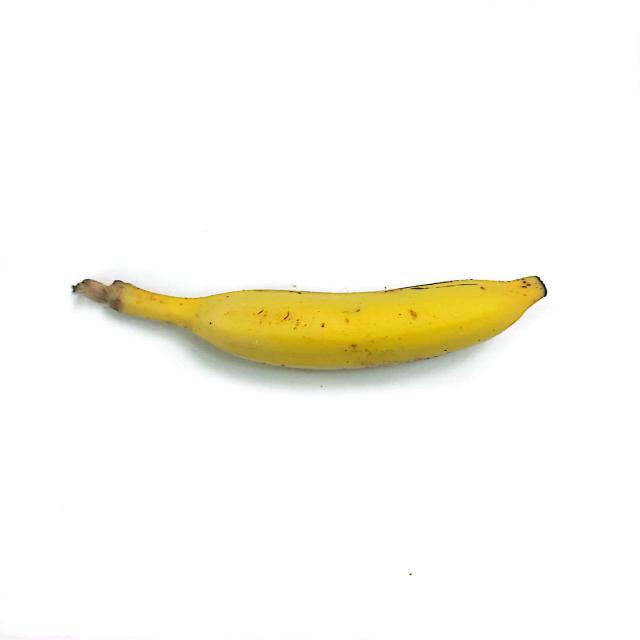fresh_banana: (79, 273, 538, 368)
